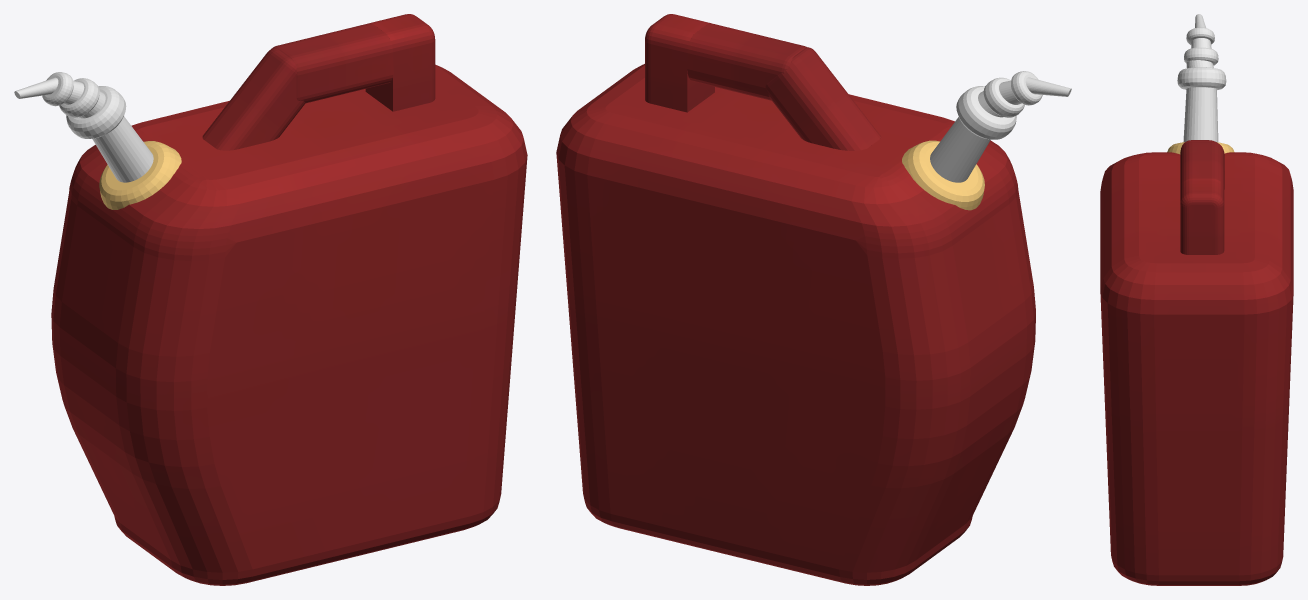
Rendered from Fuelcan.fbx.
The picture shows the model from 3 angles, left to right: view 1: azimuth 30°, elevation 25°; view 2: azimuth 150°, elevation 25°; view 3: azimuth 270°, elevation 25°; orthographic projection. The views are drawn at different scales.
Visible parts, largest first — view 1: Cylinder.002; view 2: Cylinder.002; view 3: Cylinder.002.
Boxes of the visible parts, <box> form: Cylinder.002: <box>14,14,527,585</box>; Cylinder.002: <box>556,14,1071,585</box>; Cylinder.002: <box>1100,14,1293,585</box>.
Size of the model in its own units: 0.6769 by 0.6933 by 0.2987.
